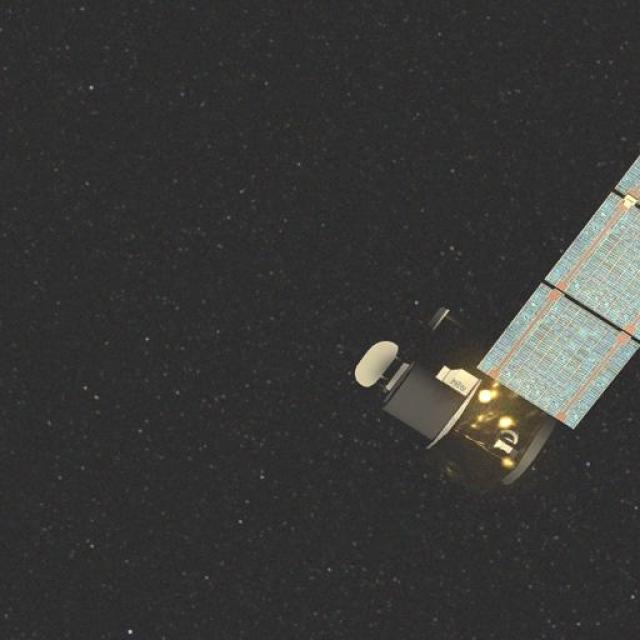earth_observation_sat_1: (338, 154, 640, 504)
